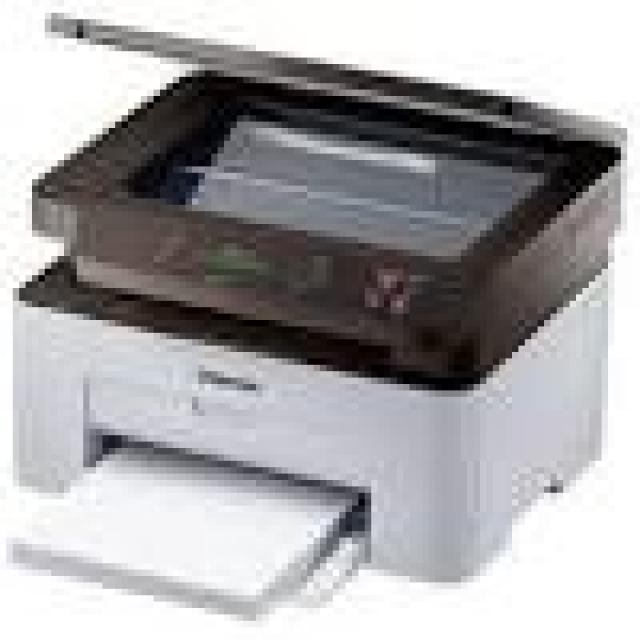printer: (3, 6, 640, 620)
